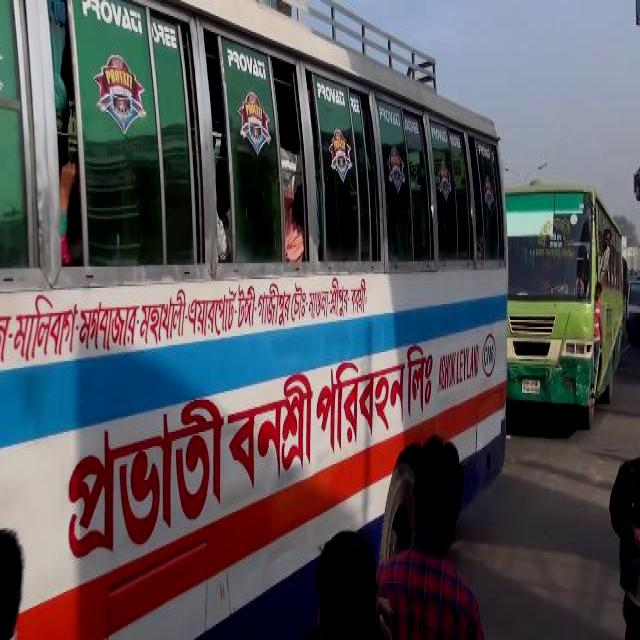BUS: (508, 181, 628, 431)
